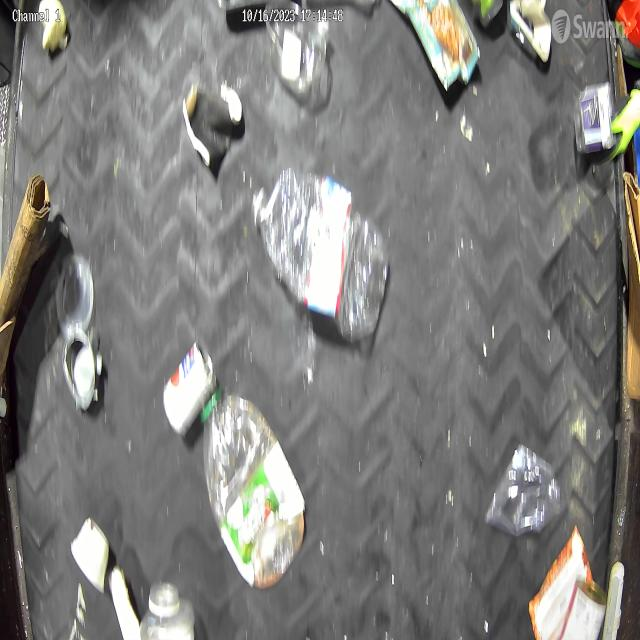can: (57, 258, 103, 419), (161, 340, 218, 444)
plastic_bottle: (252, 160, 388, 339), (202, 393, 306, 588)
